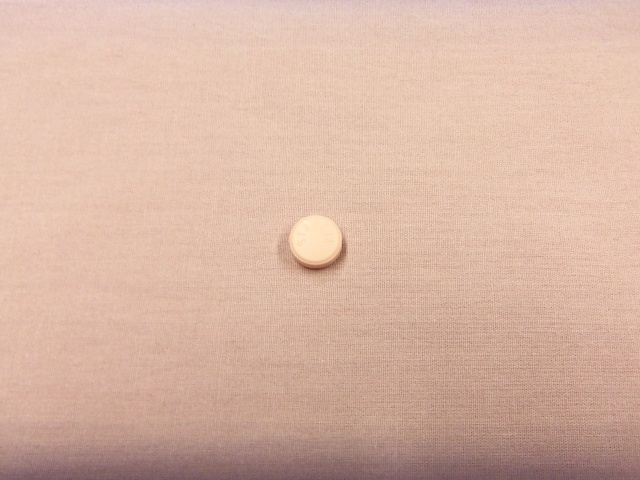S: (295, 237, 308, 248)
